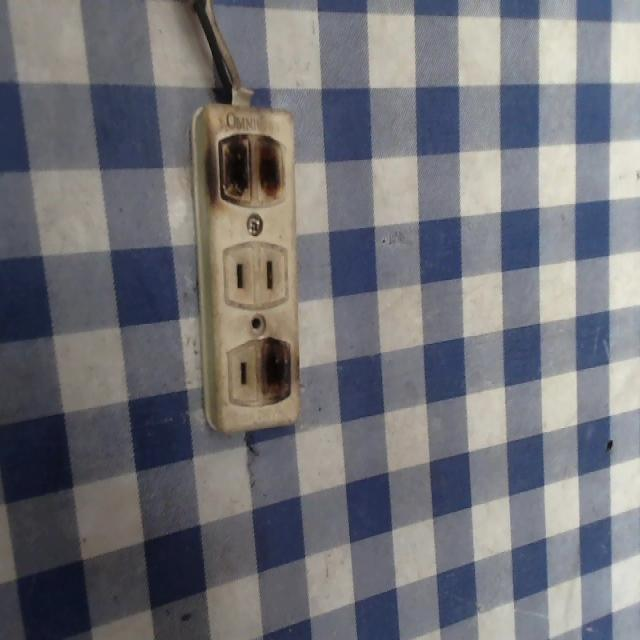-: (211, 126, 290, 215), (259, 330, 298, 410)
